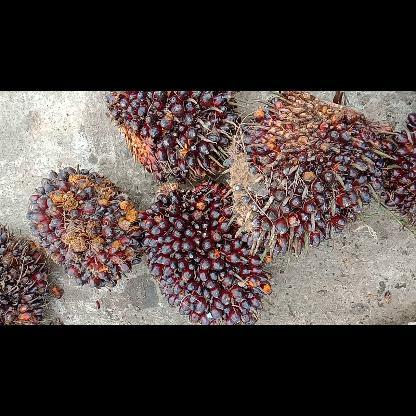Kurang masak: (226, 90, 384, 258), (132, 180, 274, 324), (23, 163, 145, 291), (102, 91, 242, 187)
